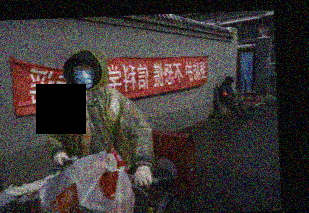with_mask: (71, 61, 95, 90)
